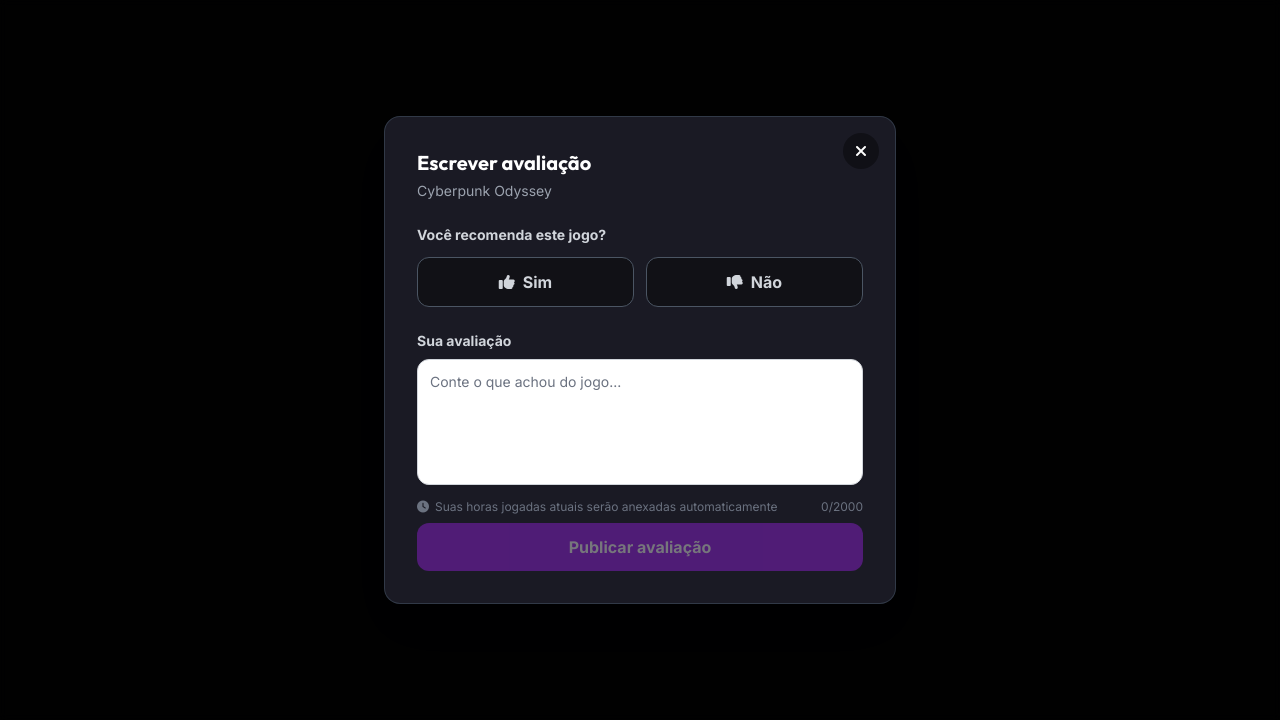
ReviewFormModal Component › exibe a mensagem de erro retornada pela API e não fecha a modal em caso de falha
This screenshot has width=1280, height=720.
Click the button "Não".
click(754, 282)  # box [646, 257, 863, 307]
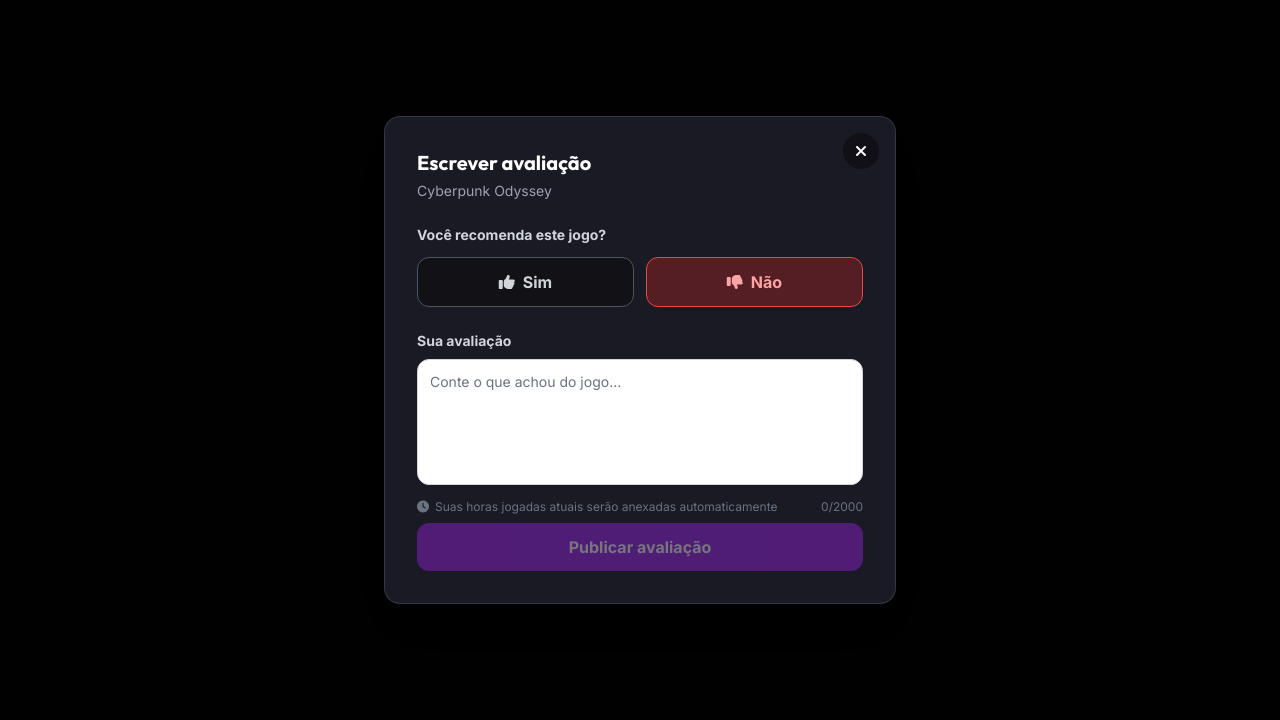
Type "Não gostei" into the text box labelled "Sua avaliação".
click(640, 422); type("Não gostei")  # box [417, 359, 863, 485]
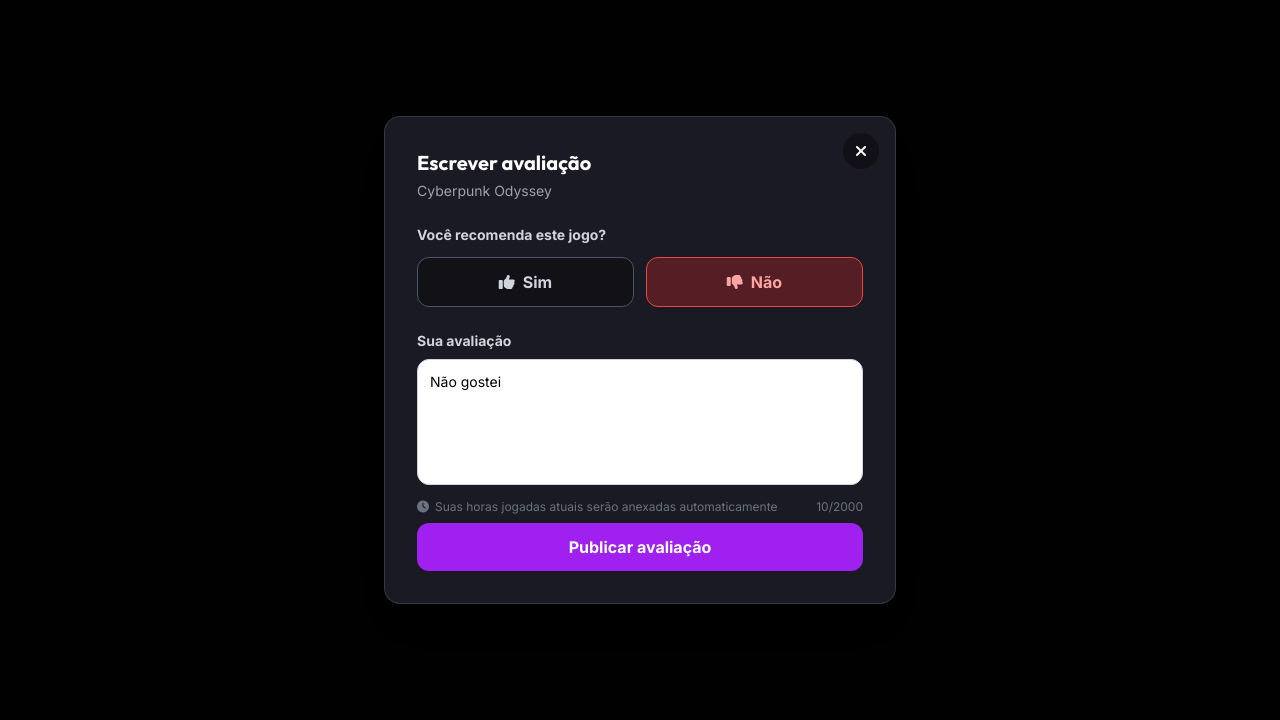
Click the button "Publicar avaliação".
click(640, 547)  # box [417, 523, 863, 571]
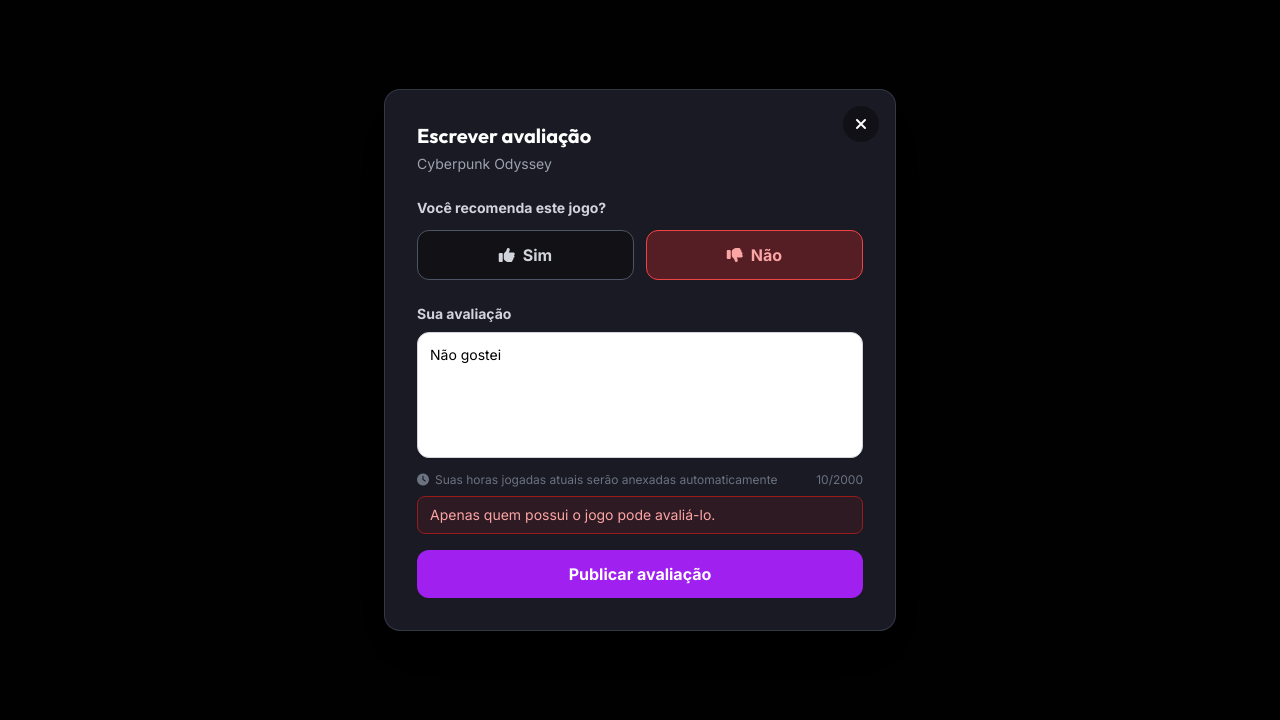
Result: the text "Apenas quem possui o jogo pode avaliá-lo." is shown at [417, 496, 863, 534]
